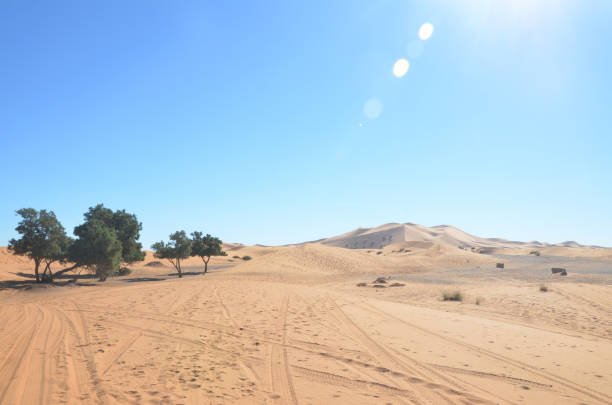vehicle_track: (355, 302, 611, 403), (328, 298, 490, 403), (292, 292, 413, 403), (324, 297, 432, 403), (98, 310, 333, 354), (131, 316, 345, 355), (385, 346, 510, 403), (88, 305, 257, 336), (457, 305, 611, 339), (98, 320, 238, 356), (470, 308, 611, 339), (0, 305, 44, 404), (56, 308, 99, 403), (67, 300, 105, 401), (292, 365, 409, 395), (268, 294, 297, 404), (431, 364, 551, 389), (39, 305, 66, 403), (0, 306, 34, 374), (291, 291, 342, 334), (281, 295, 298, 405), (101, 331, 141, 374), (554, 288, 611, 313), (213, 287, 243, 330), (165, 283, 205, 315), (213, 287, 238, 328), (0, 304, 22, 337)
